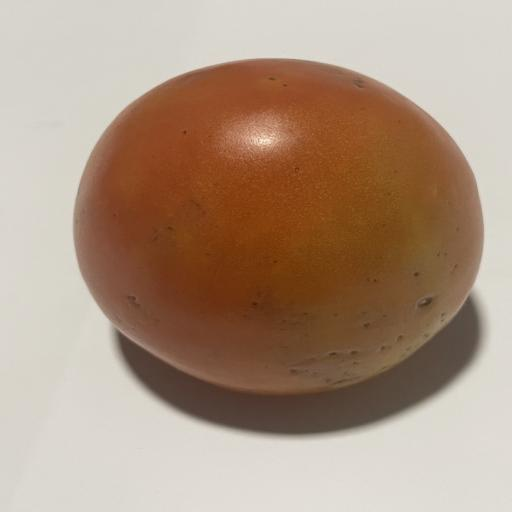unripe: (74, 59, 482, 394)
